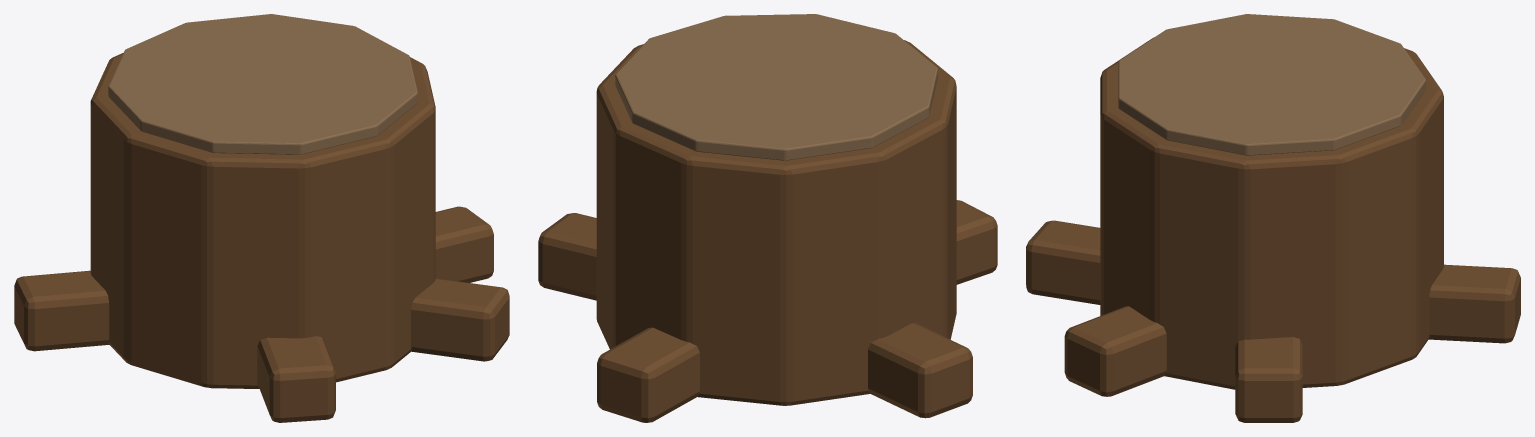
The model's file is tree_stump_0p8m.glb.
3 renders of one model, left to right at view 1: azimuth 30°, elevation 25°; view 2: azimuth 150°, elevation 25°; view 3: azimuth 270°, elevation 25°, orthographic. The views are drawn at different scales.
Visible parts, largest first — view 1: tree_stump_body, tree_stump_cut, tree_stump_root_05, tree_stump_root_03, tree_stump_root_04, tree_stump_root_01; view 2: tree_stump_body, tree_stump_cut, tree_stump_root_03, tree_stump_root_02, tree_stump_root_01, tree_stump_root_04; view 3: tree_stump_body, tree_stump_cut, tree_stump_root_05, tree_stump_root_02, tree_stump_root_01, tree_stump_root_04.
Boxes of the visible parts, x1=… form: tree_stump_body: x1=90, y1=53, x2=435, y2=388; tree_stump_cut: x1=108, y1=14, x2=417, y2=154; tree_stump_root_05: x1=411, y1=278, x2=509, y2=361; tree_stump_root_03: x1=14, y1=270, x2=109, y2=351; tree_stump_root_04: x1=257, y1=336, x2=335, y2=422; tree_stump_root_01: x1=435, y1=206, x2=493, y2=282; tree_stump_body: x1=596, y1=40, x2=956, y2=405; tree_stump_cut: x1=615, y1=14, x2=937, y2=160; tree_stump_root_03: x1=868, y1=323, x2=972, y2=418; tree_stump_root_02: x1=597, y1=327, x2=699, y2=422; tree_stump_root_01: x1=538, y1=213, x2=596, y2=300; tree_stump_root_04: x1=956, y1=200, x2=997, y2=284; tree_stump_body: x1=1100, y1=37, x2=1443, y2=389; tree_stump_cut: x1=1118, y1=14, x2=1425, y2=155; tree_stump_root_05: x1=1064, y1=306, x2=1166, y2=396; tree_stump_root_02: x1=1428, y1=264, x2=1520, y2=343; tree_stump_root_01: x1=1235, y1=337, x2=1302, y2=422; tree_stump_root_04: x1=1026, y1=220, x2=1100, y2=304.
Bounding box in the file's own units: 1.33 × 0.7125 × 1.32.
